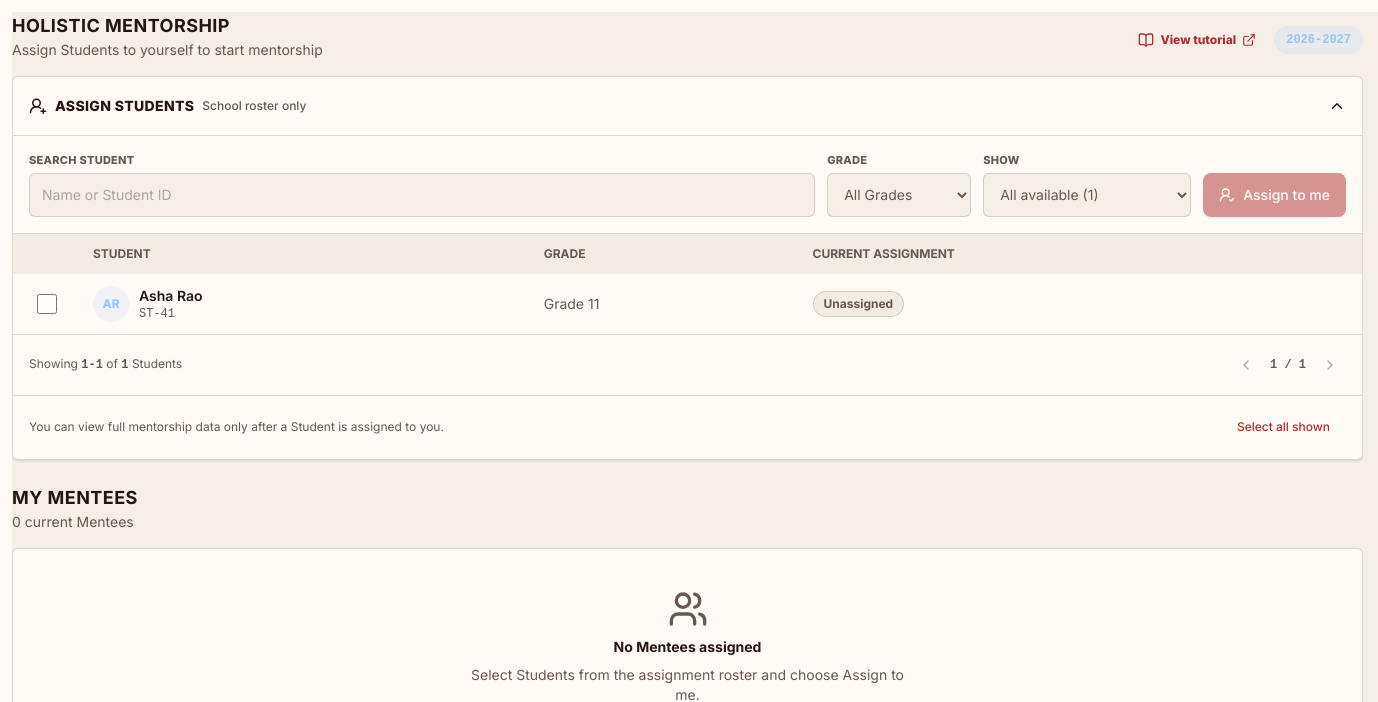
Test case: TeacherMappingWorkspace › reports a refresh failure instead of claiming stale success
This screenshot has width=1378, height=702.
Step 1. Click the checkbox named "Select Asha Rao" → (47, 304), box [37,294,57,314]
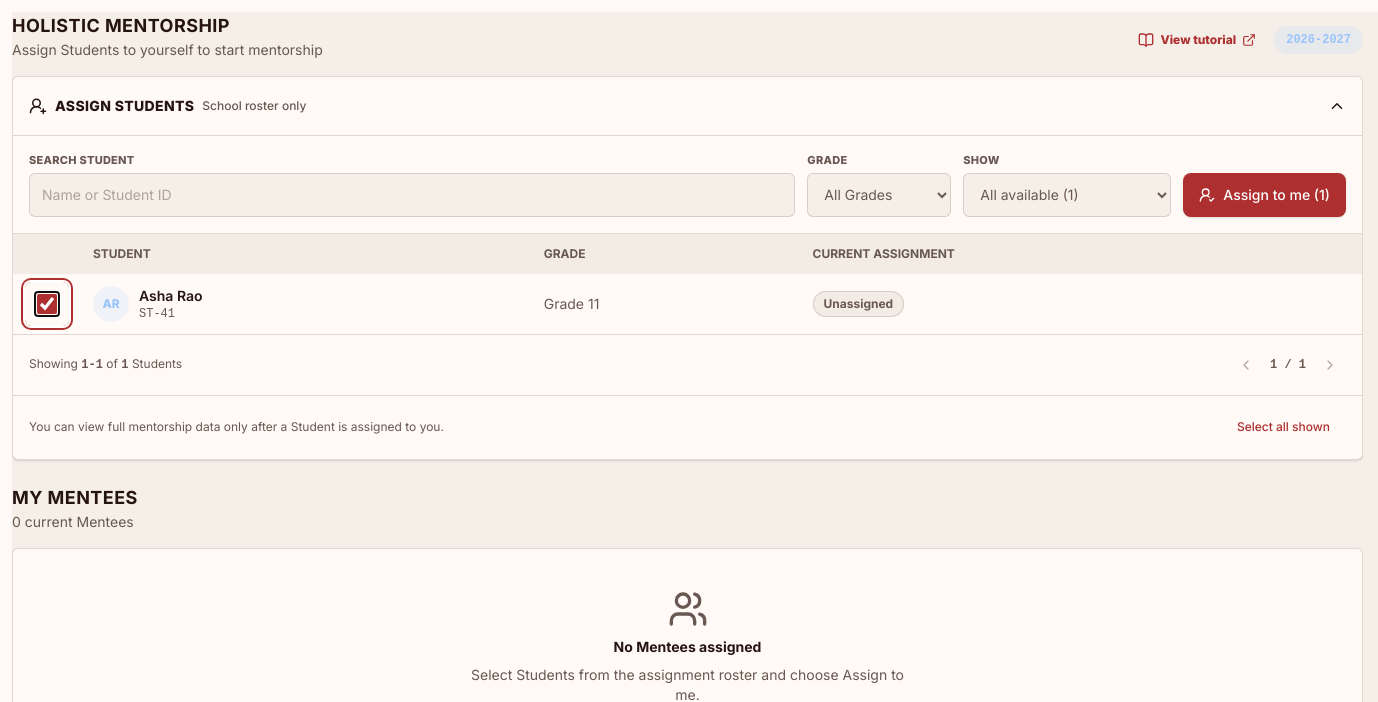
Step 2. Click the button "Assign to me (1)" → (1265, 194), box [1183,172,1346,216]
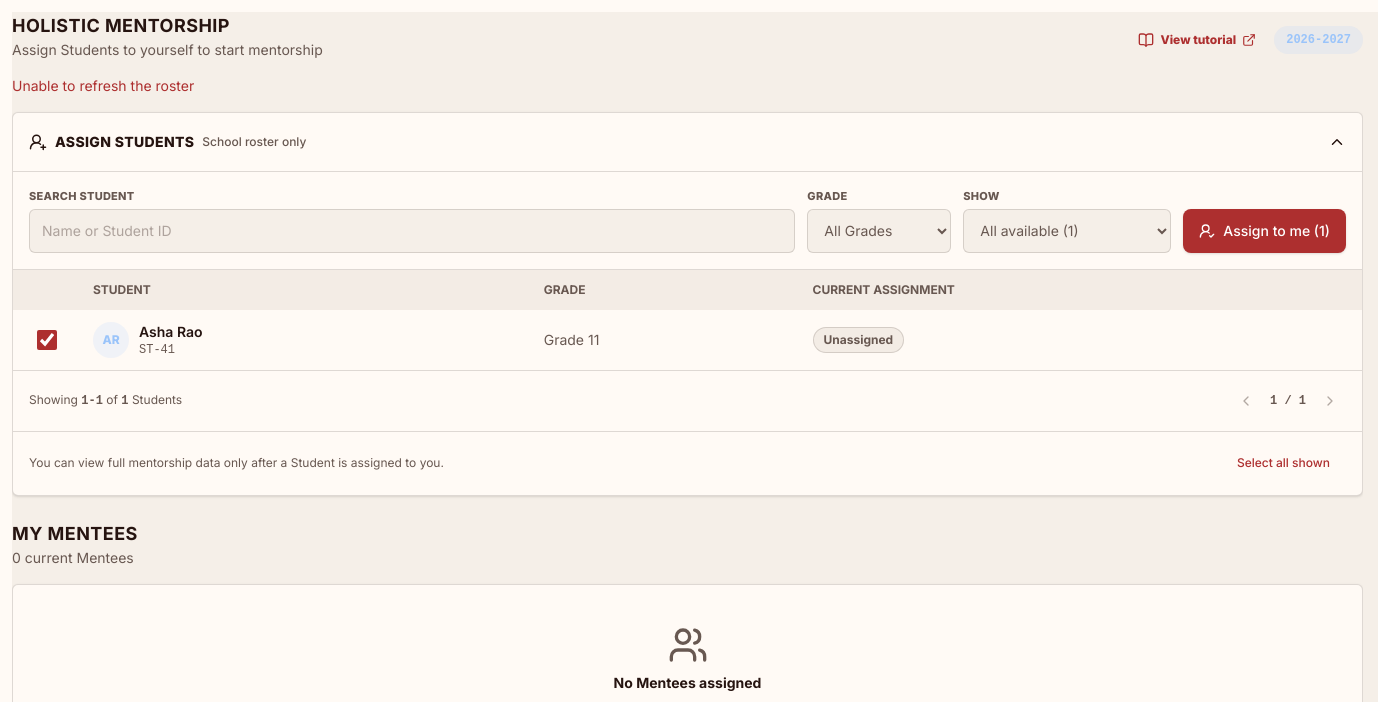
Check: the message reads "Unable to refresh the roster", box [12,77,194,94]
